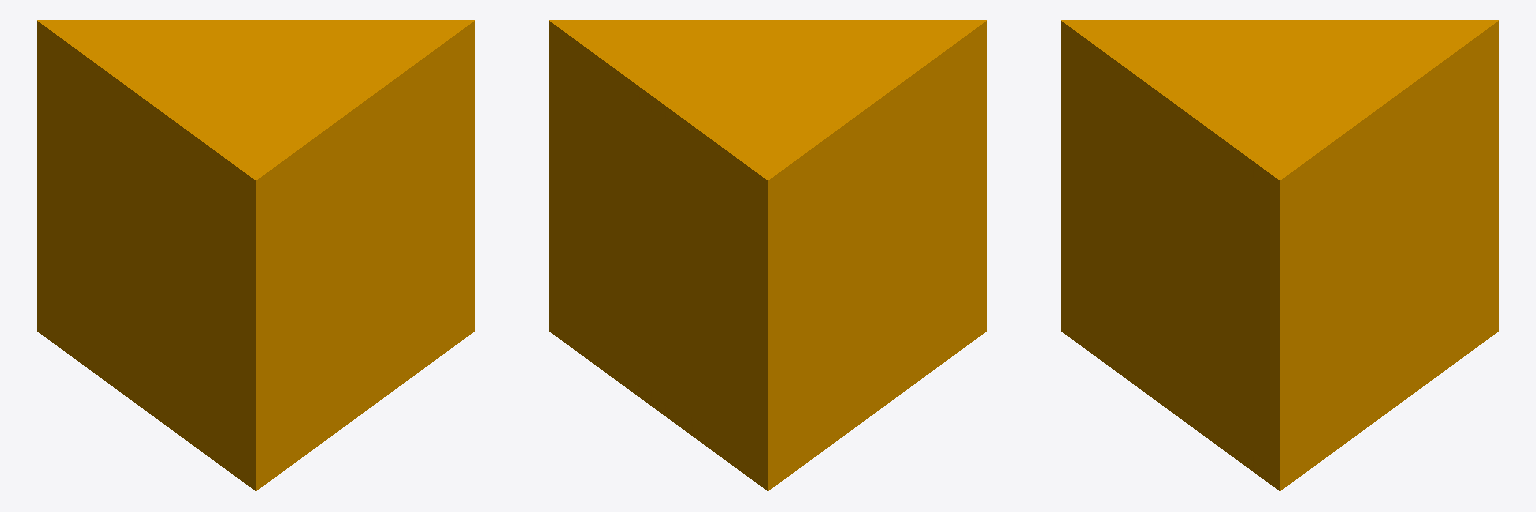
robot.urdf — triangle_peg:
<?xml version="1.0"?>
<robot name="triangle_peg">
    <link name="triangle_peg">
        <visual>
            <!--origin xyz="0 0 0.01905" rpy="0 1.57079632679 0"-->
            <geometry>
                <mesh filename="../mesh/factory_insertion/triangle_peg.obj"/>
            </geometry>
        </visual>
        <collision>
            <!--origin xyz="0 0 0.01905" rpy="0 1.57079632679 0"-->
            <geometry>
                <mesh filename="../mesh/factory_insertion/triangle_peg.obj"/>
            </geometry>
        </collision>
    </link>
</robot>

--- Facts derived from the render (not from the file) ---
Views: 3 orthographic renders of the robot side by side, from view 1: azimuth 30°, elevation 25°; view 2: azimuth 150°, elevation 25°; view 3: azimuth 270°, elevation 25°.
Model triangle_peg with 1 links and 0 joints (none), rooted at triangle_peg, posed all joints at 0.
Visible links, largest first — view 1: triangle_peg; view 2: triangle_peg; view 3: triangle_peg.
Boxes of the visible links, box(x1,y1,x2,y2) form: triangle_peg: box(37, 20, 474, 490); triangle_peg: box(549, 20, 986, 490); triangle_peg: box(1061, 20, 1498, 490).
Size in the robot's own frame: 0.0553 by 0.0639 by 0.05 metres.
1 mesh visuals loaded from 1 distinct referenced files (1 OBJ).
